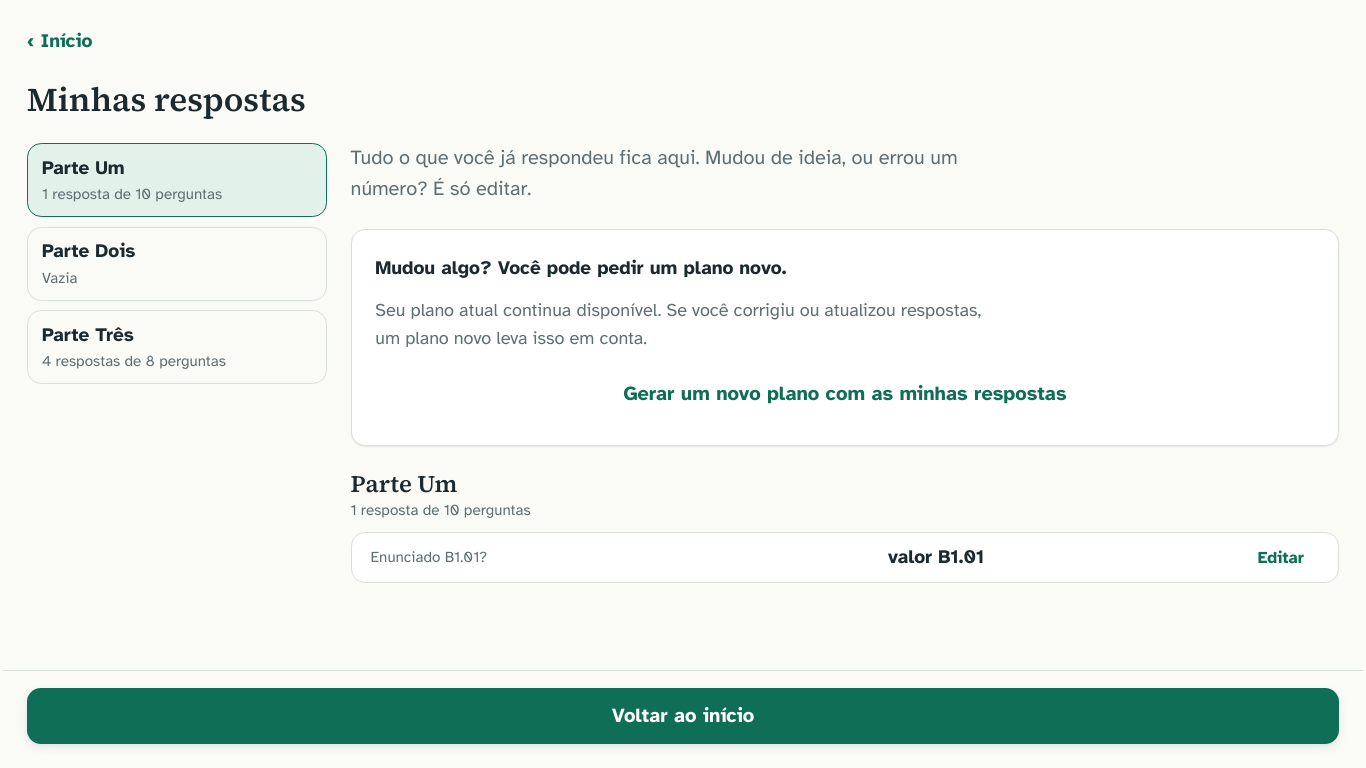
Test: TelaRespostas — plano novo depois da liberação (T-342, RF-118) › a confirmação diz que o plano atual continua, que será conferido de novo e que há fila (AC-184)
Click the button "Gerar um novo plano com as minhas respostas" at coordinates (845, 395), box [375,368,1315,422]
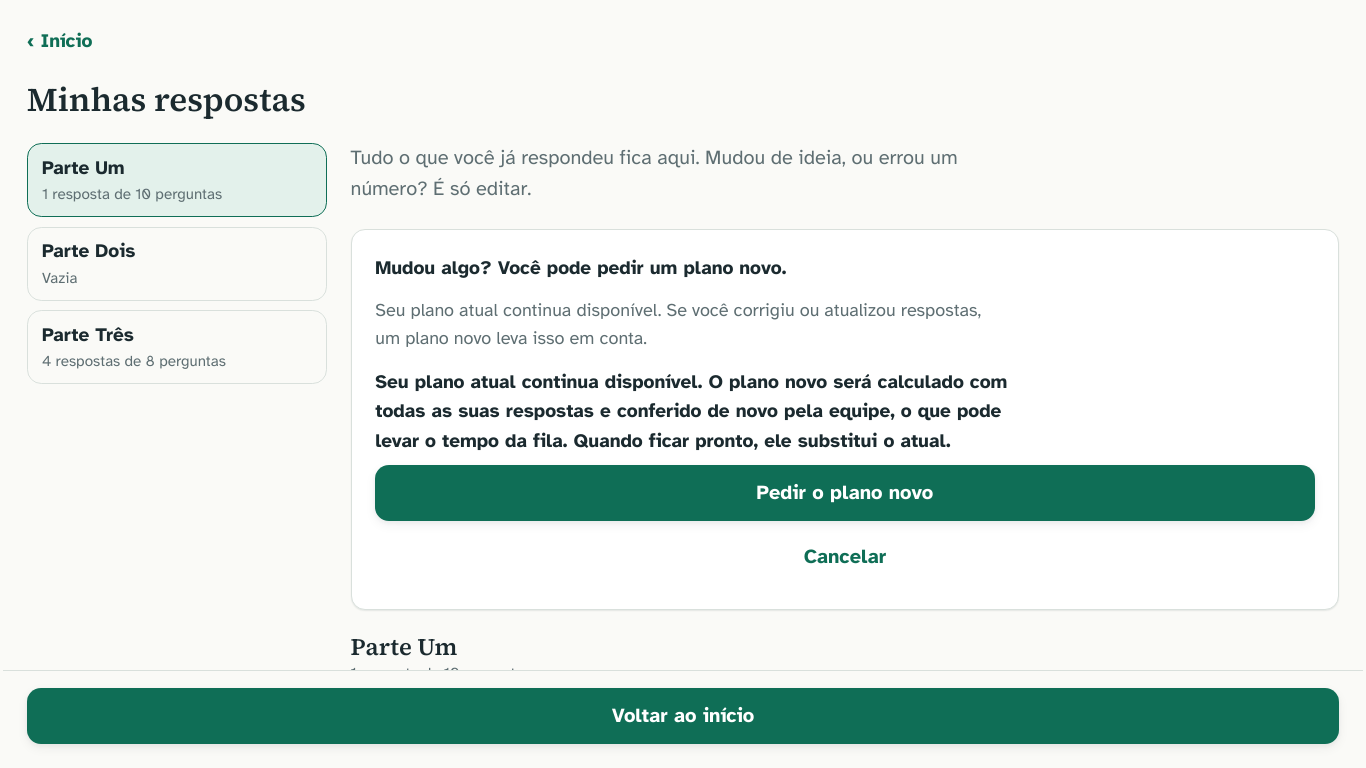
Check: the element named "Confirmar o plano novo" shows "Seu plano atual continua disponível", box [375,370,1008,452]
Check: the element named "Confirmar o plano novo" shows "conferido de novo pela equipe", box [375,370,1008,452]
Check: the element named "Confirmar o plano novo" shows "tempo da fila", box [375,370,1008,452]
